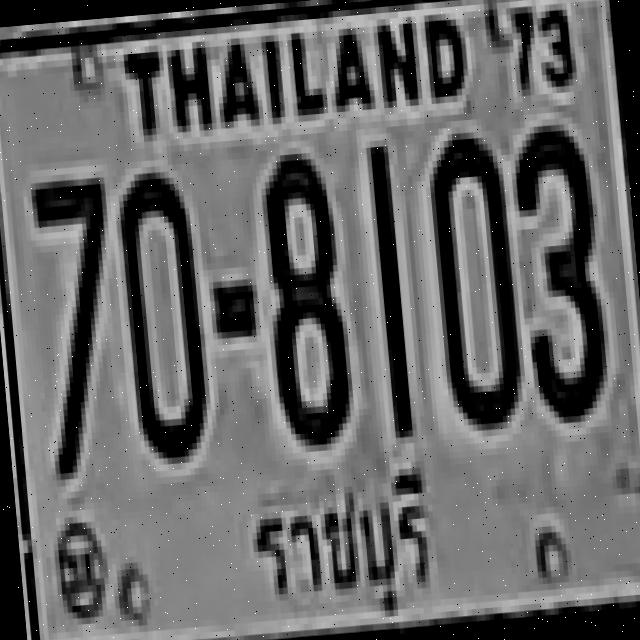0: (420, 126, 520, 424), (111, 164, 210, 460)
1: (361, 139, 412, 432)
3: (507, 119, 606, 416)
7: (26, 171, 124, 474), (28, 168, 124, 438), (28, 171, 118, 373)
8: (253, 144, 352, 442)
Ratchaburi: (240, 456, 441, 633)
